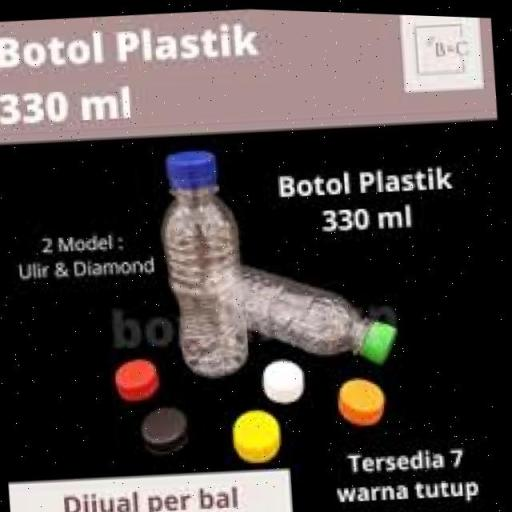plastic: (148, 139, 258, 385), (243, 245, 429, 377)
